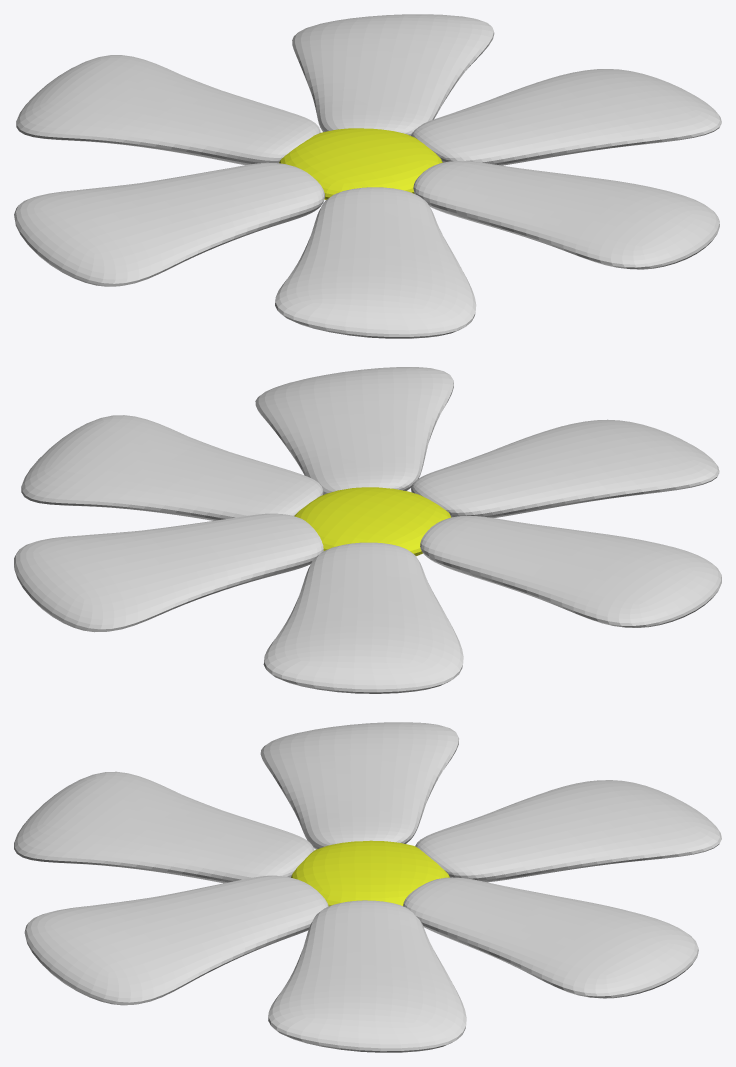
Rendered from flower.fbx.
3 views of the same model, one above another, from view 1: azimuth 30°, elevation 25°; view 2: azimuth 150°, elevation 25°; view 3: azimuth 270°, elevation 25° (orthographic).
Visible parts, largest first — view 1: Cube.003, Cube.006, Cube.001, Cube.004, Cube, Cube.002, Cube.005; view 2: Cube.002, Cube.004, Cube.003, Cube, Cube.006, Cube.001, Cube.005; view 3: Cube.001, Cube, Cube.002, Cube.006, Cube.004, Cube.003, Cube.005.
Boxes of the visible parts, bbox=[...] form: Cube.003: bbox=[14, 162, 324, 286]; Cube.006: bbox=[275, 187, 476, 338]; Cube.001: bbox=[413, 161, 719, 269]; Cube.004: bbox=[16, 55, 320, 165]; Cube: bbox=[411, 69, 721, 165]; Cube.002: bbox=[292, 14, 494, 135]; Cube.005: bbox=[279, 128, 442, 199]; Cube.002: bbox=[14, 513, 323, 632]; Cube.004: bbox=[263, 542, 463, 693]; Cube.003: bbox=[420, 516, 721, 627]; Cube: bbox=[21, 415, 323, 520]; Cube.006: bbox=[411, 419, 719, 517]; Cube.001: bbox=[255, 367, 453, 494]; Cube.005: bbox=[294, 487, 451, 556]; Cube.001: bbox=[24, 875, 328, 1005]; Cube: bbox=[268, 900, 466, 1052]; Cube.002: bbox=[403, 877, 698, 998]; Cube.006: bbox=[14, 771, 314, 883]; Cube.004: bbox=[415, 780, 721, 882]; Cube.003: bbox=[260, 722, 458, 849]; Cube.005: bbox=[291, 840, 449, 906].
Bounding box in the file's own units: 485 × 24.73 × 459.
